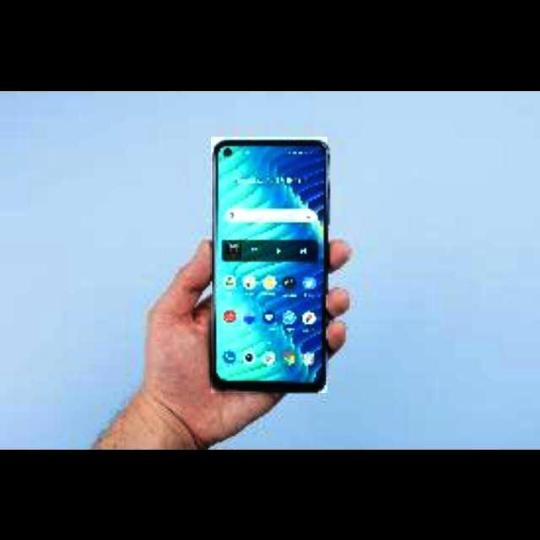phone: (211, 136, 331, 394)
